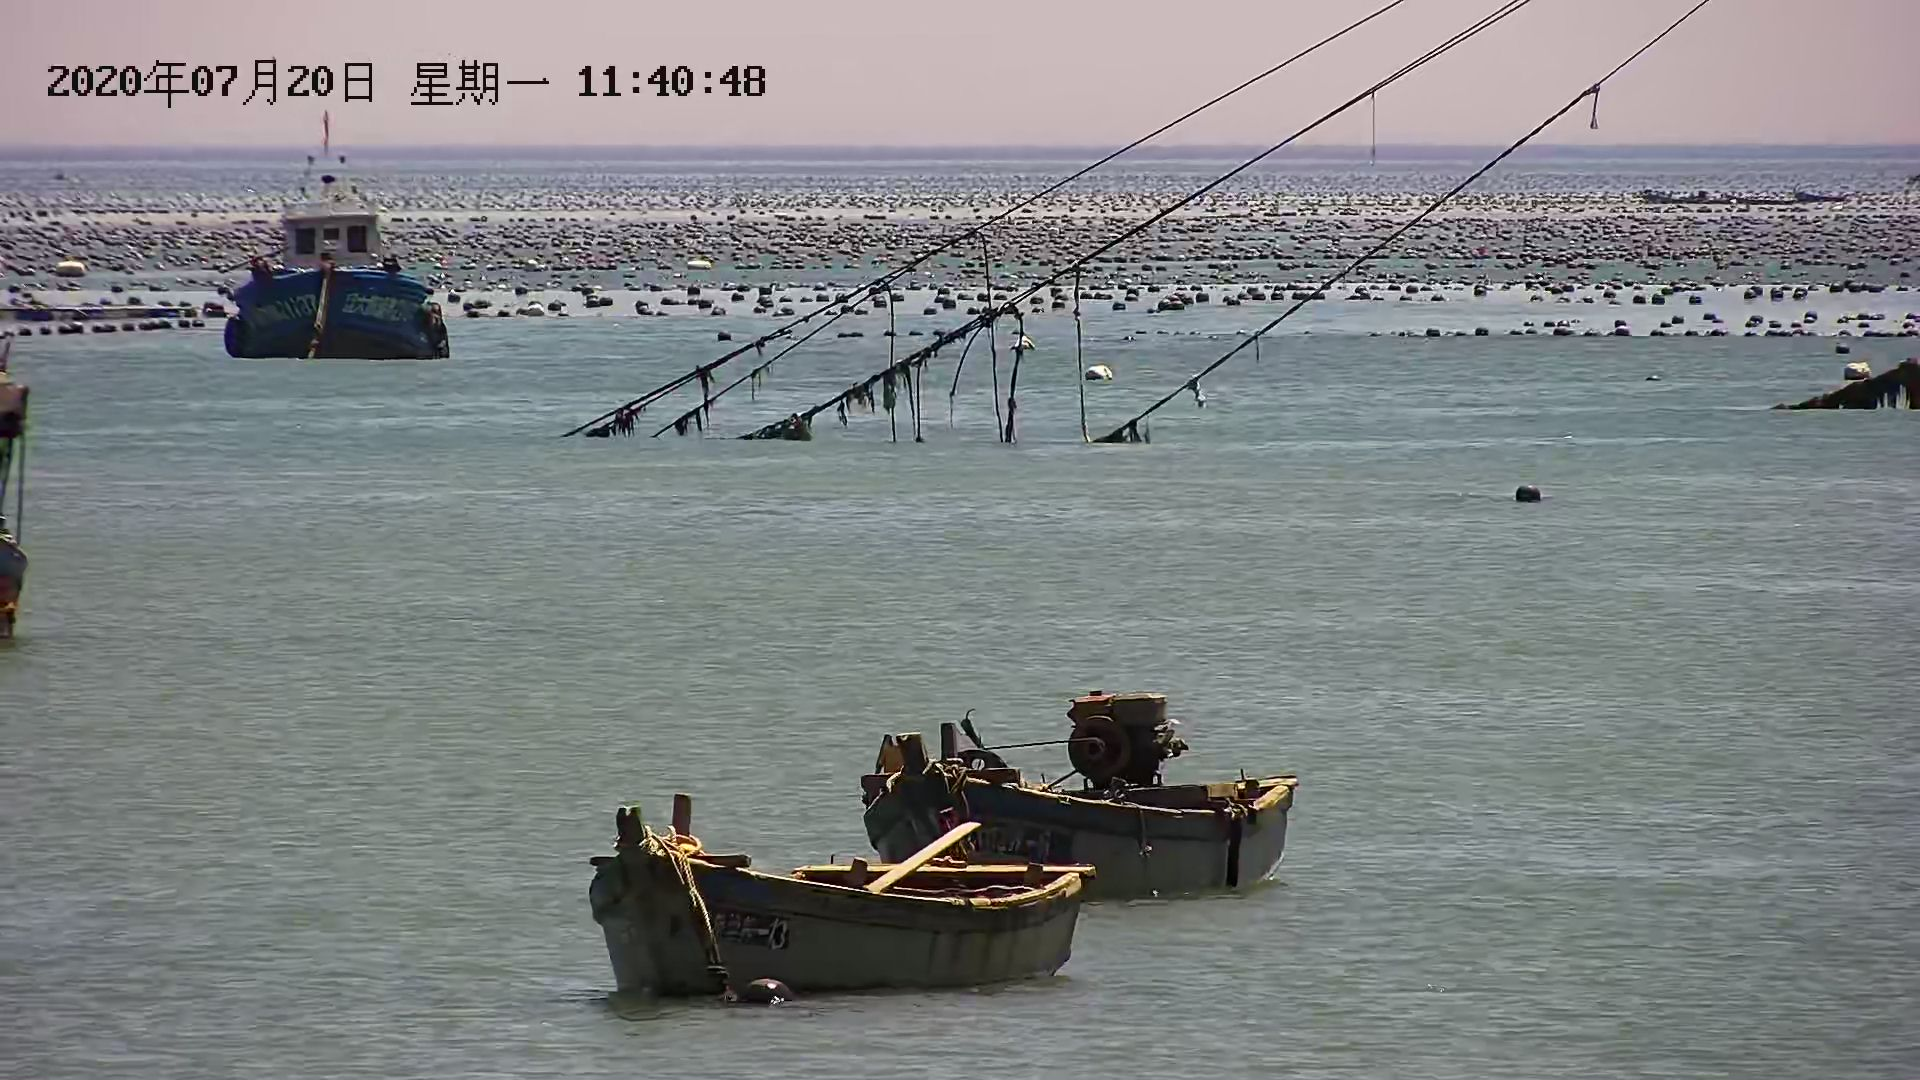ball: (1516, 483, 1551, 512)
boat: (575, 814, 1093, 1002), (858, 683, 1307, 897), (208, 135, 462, 357)
